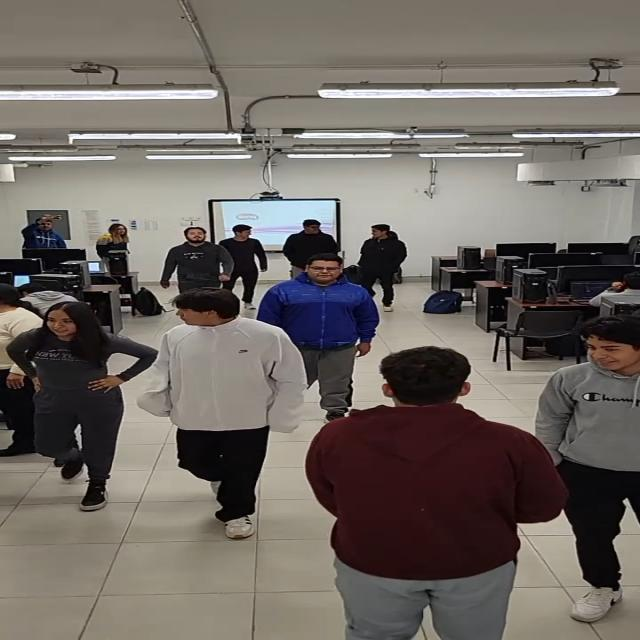Persona: (304, 349, 537, 630), (542, 312, 640, 601), (167, 294, 277, 539), (27, 308, 121, 505), (274, 252, 366, 363), (361, 220, 414, 308), (174, 222, 224, 292), (224, 228, 262, 297), (97, 222, 143, 279), (26, 210, 64, 255), (291, 221, 339, 256)
